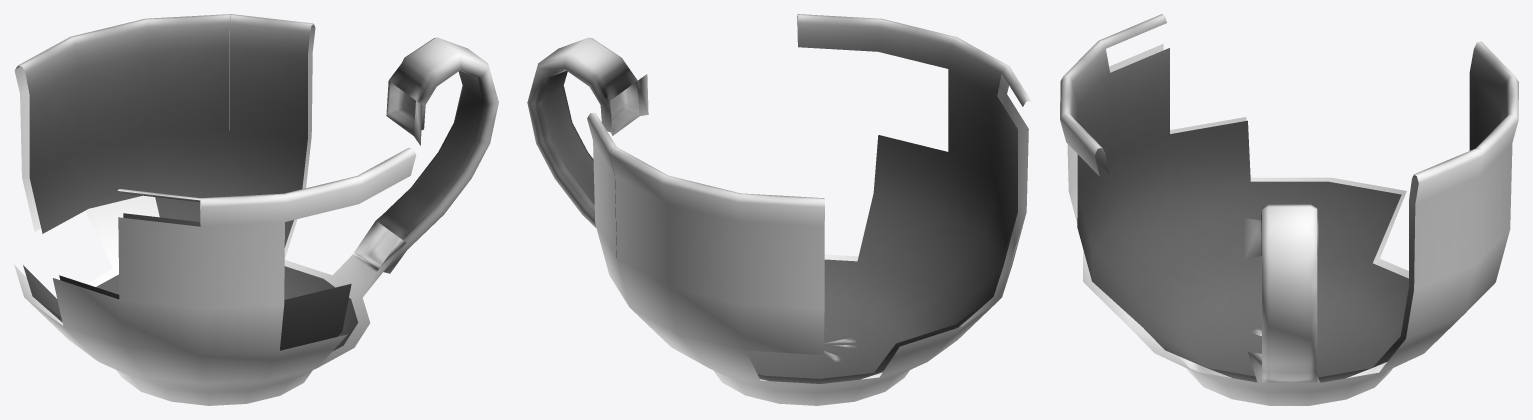
The model's file is Teacup_Shattered.fbx.
3 renders of one model, left to right at view 1: azimuth 30°, elevation 25°; view 2: azimuth 150°, elevation 25°; view 3: azimuth 270°, elevation 25°, orthographic. The views are drawn at different scales.
Parts seen in each view (by area): view 1: pasted__Teacup_LOD0 (×4); view 2: pasted__Teacup_LOD0 (×4); view 3: pasted__Teacup_LOD0 (×4).
Part boxes in pixels (box(x1,y1,x2,y2)): pasted__Teacup_LOD0 (×4): box(14, 14, 498, 405); pasted__Teacup_LOD0 (×4): box(527, 14, 1031, 405); pasted__Teacup_LOD0 (×4): box(1060, 14, 1518, 405).
Size of what is drawn, in the model's own units: 10.87 by 5.98 by 9.08.
